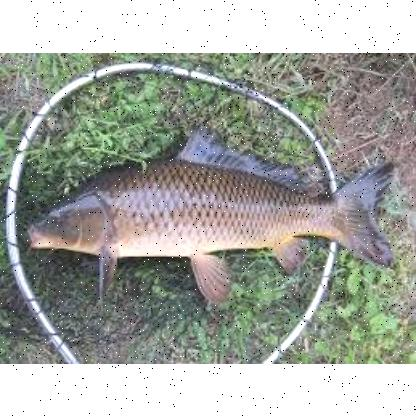ikan-mas: (31, 142, 404, 290)
